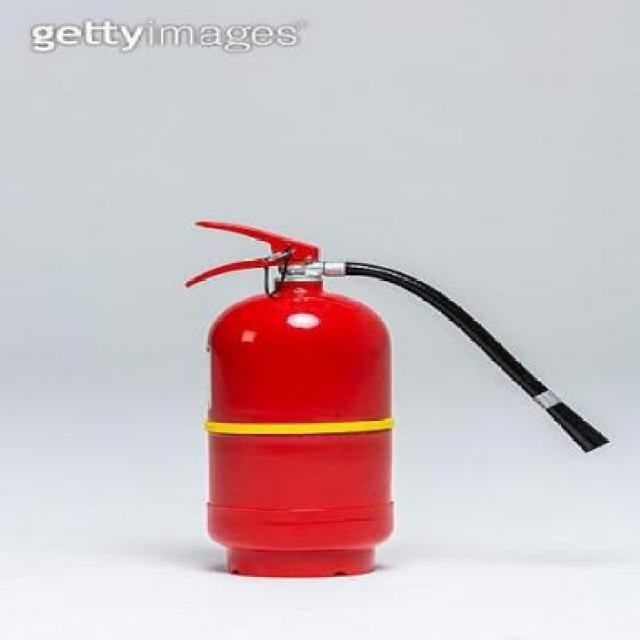fire extinguisher: (186, 219, 609, 578)
